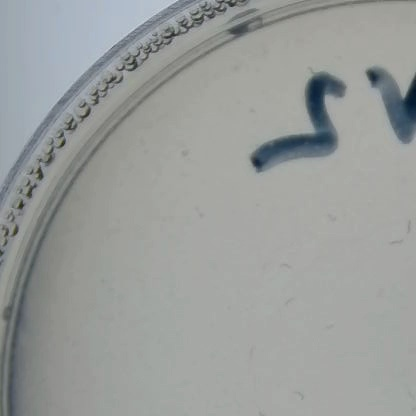worm: (289, 383, 313, 407), (272, 258, 301, 275), (279, 289, 303, 309), (383, 238, 404, 255), (191, 203, 207, 224), (401, 388, 416, 409), (403, 216, 416, 238), (248, 341, 259, 363), (325, 208, 341, 223), (300, 61, 313, 76)
